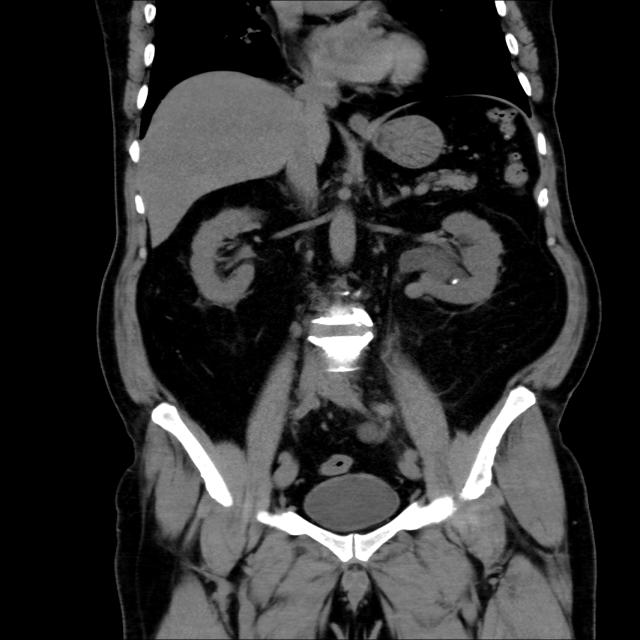kidneystone: (447, 278, 461, 285)
